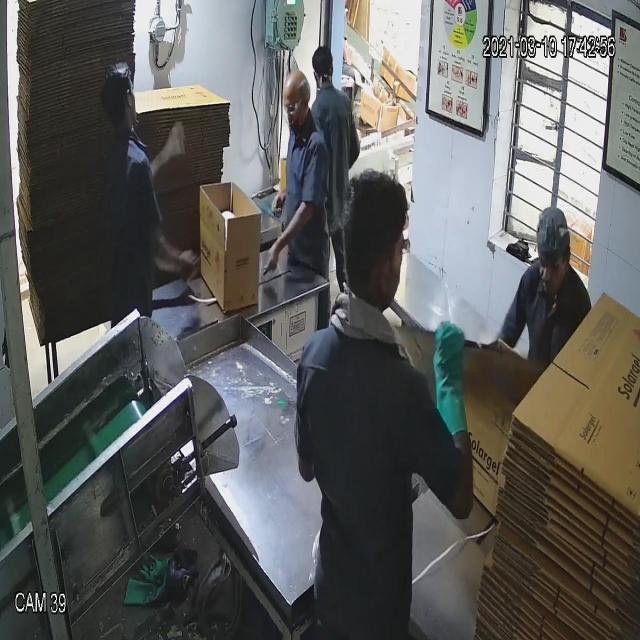No_Gloves: (50, 74, 452, 387)
